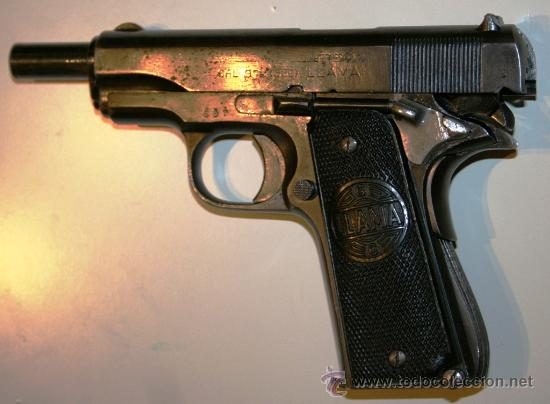Arma Real: (4, 15, 538, 386)
